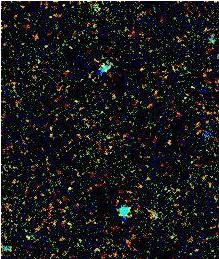star: (47, 177, 77, 207)
